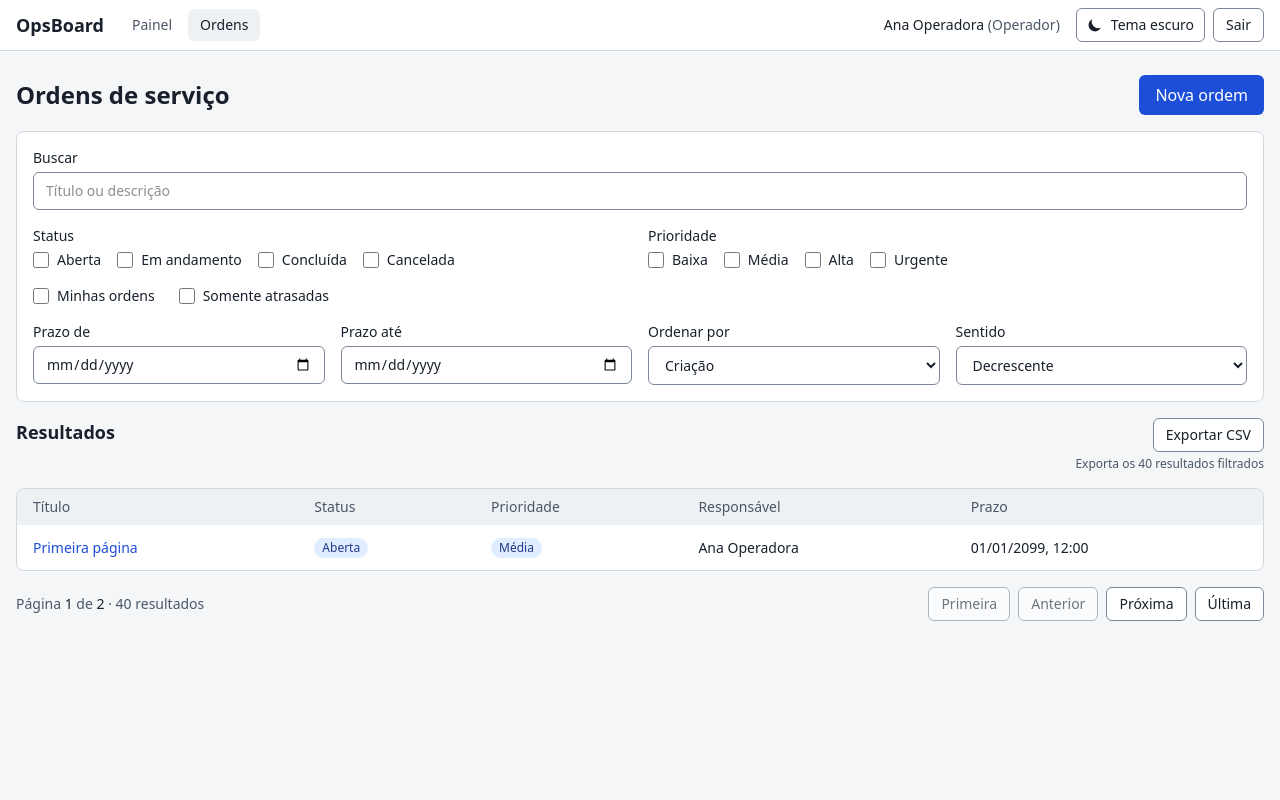
Lista de ordens (/orders) › erro depois de dados carregados mantém a lista anterior na tela
Expected: the navigation bar named "Paginação" shows "Página 1 de 2 · 40 resultados", [16,587,1264,621]
Click the button "Próxima" at point(1146, 604), box [1106,587,1186,621]
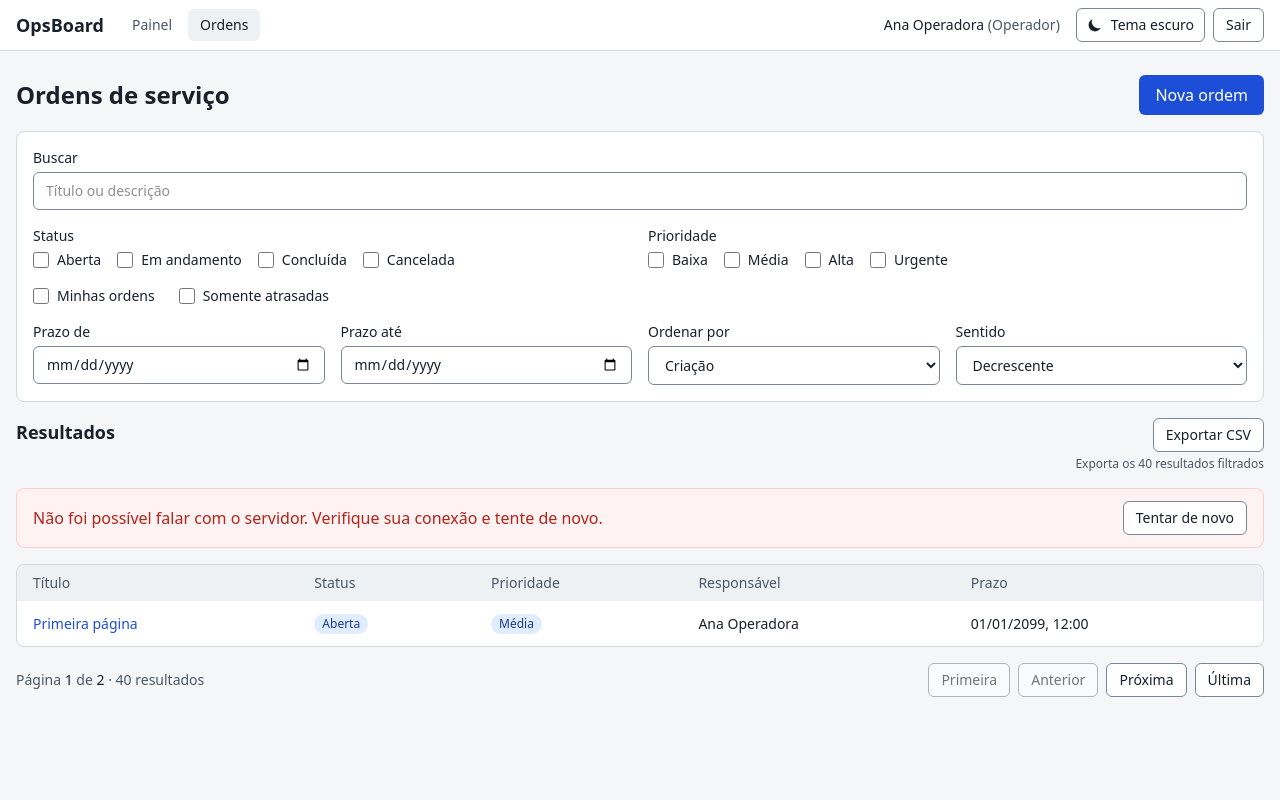
Expected: the link "Primeira página" is shown, [33,614,138,632]
Expected: the message shows "Não foi possível falar com o servidor. Verifique sua conexão e tente de novo.", [33,507,603,529]
